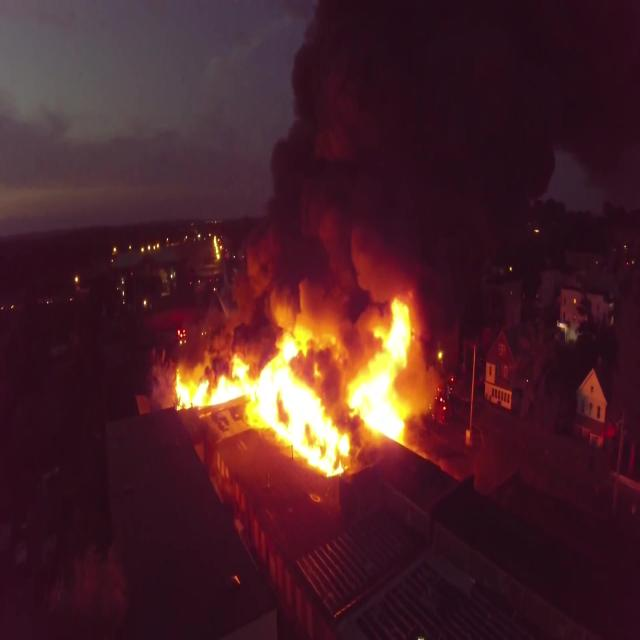Fire: (202, 0, 640, 357), (174, 301, 411, 479)
